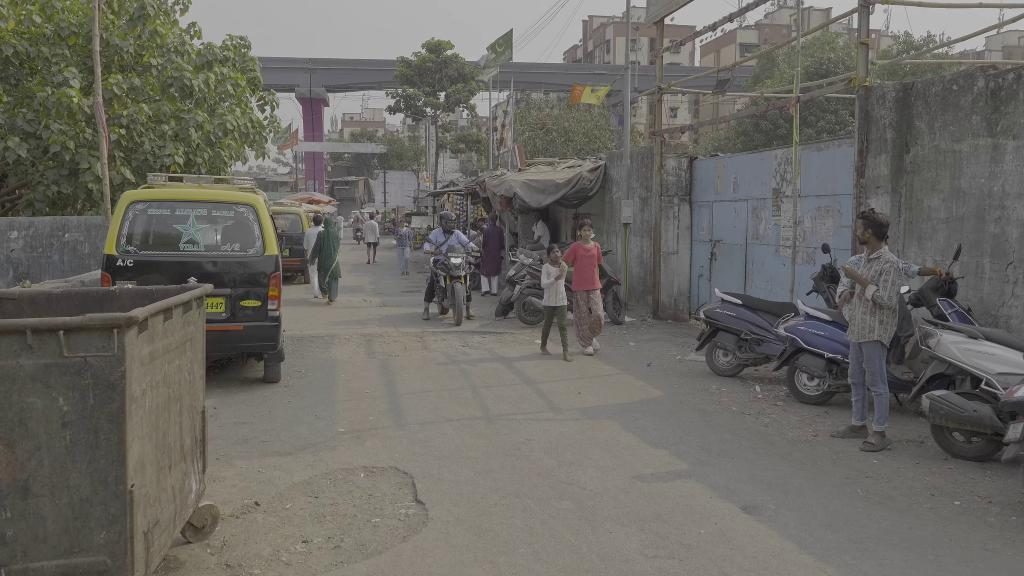dustbin: (0, 276, 217, 576)
